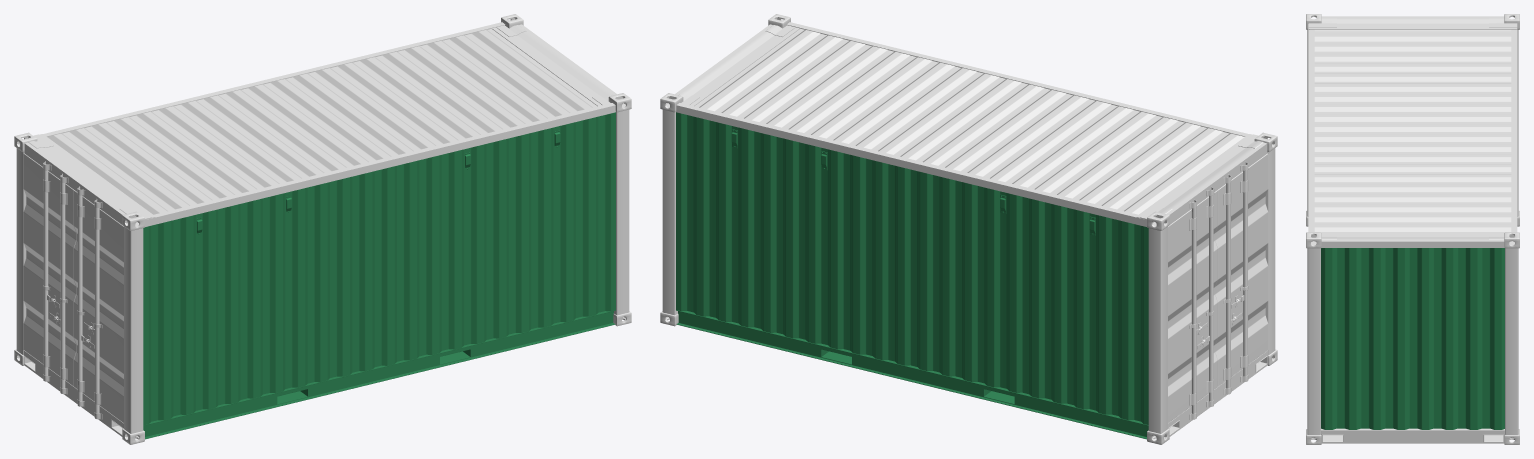
The model's file is exterior.glb.
The picture shows the model from 3 angles, left to right: view 1: azimuth 30°, elevation 25°; view 2: azimuth 150°, elevation 25°; view 3: azimuth 270°, elevation 25°; orthographic projection. The views are drawn at different scales.
Visible parts, largest first — view 1: Container_Exterior_Blank_Left_01, Container_Exterior_Blank_RearTop_01, Container_Exterior_Blank_Bottom_01; view 2: Container_Exterior_Blank_Right_01, Container_Exterior_Blank_RearTop_01, Container_Exterior_Blank_Bottom_01; view 3: Container_Exterior_Blank_RearTop_01, Container_Exterior_Blank_Front_01.
Boxes of the visible parts, x1,y1,x2,y2 form: Container_Exterior_Blank_Left_01: [143, 112, 615, 425]; Container_Exterior_Blank_RearTop_01: [14, 14, 631, 444]; Container_Exterior_Blank_Bottom_01: [143, 310, 615, 439]; Container_Exterior_Blank_Right_01: [676, 112, 1148, 424]; Container_Exterior_Blank_RearTop_01: [660, 14, 1277, 444]; Container_Exterior_Blank_Bottom_01: [676, 310, 1148, 439]; Container_Exterior_Blank_RearTop_01: [1306, 14, 1519, 444]; Container_Exterior_Blank_Front_01: [1321, 248, 1504, 429].
Bounding box in the file's own units: 6.11 × 2.6 × 2.44.
